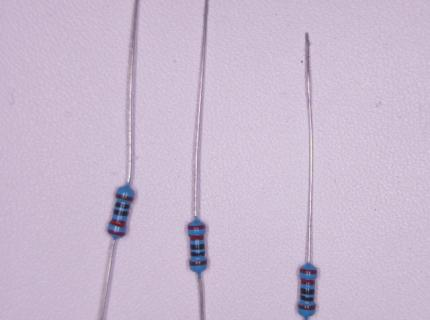Black band: (115, 201, 131, 210), (114, 209, 129, 217), (300, 288, 315, 295), (190, 244, 205, 250), (191, 252, 205, 257), (301, 296, 315, 301)
Brown band: (115, 193, 134, 202), (190, 260, 207, 266), (298, 305, 316, 310)
Red band: (110, 217, 127, 228), (108, 228, 126, 236), (300, 269, 317, 274), (301, 279, 314, 285), (189, 235, 204, 240), (188, 225, 205, 229)
